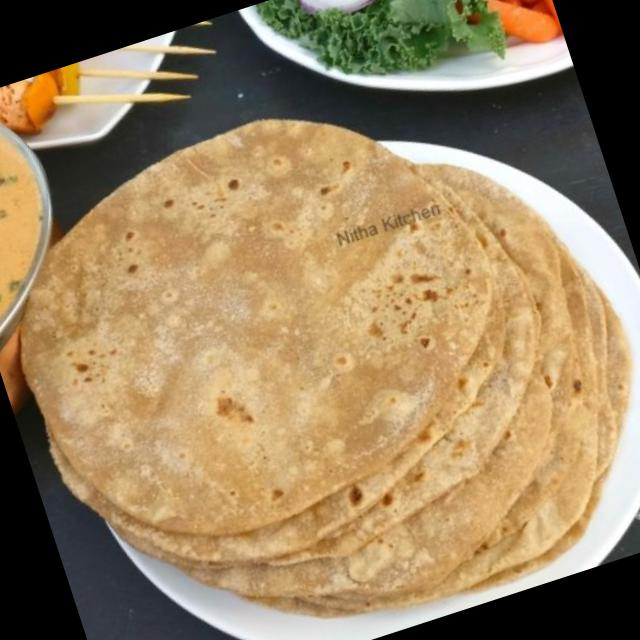roti: (22, 111, 637, 617)
